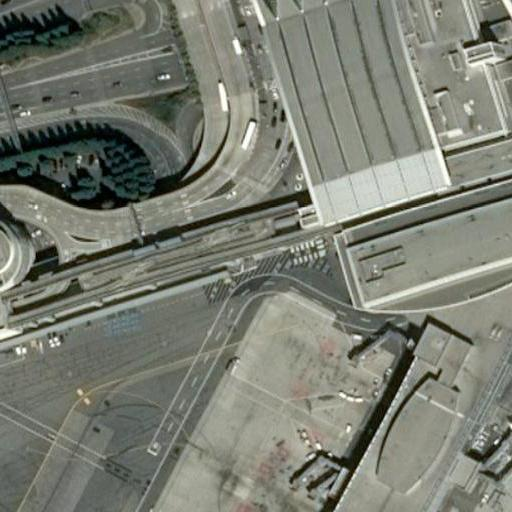Aircraft: (496, 401, 512, 504)
